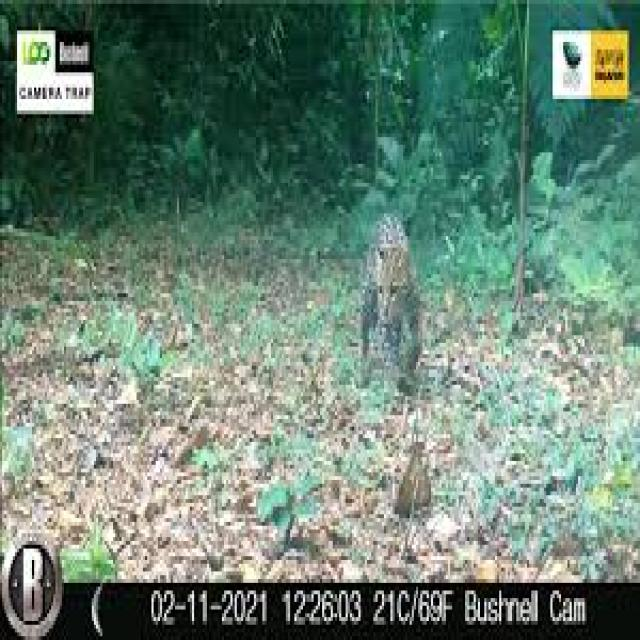Jaguar: (354, 214, 423, 374)
